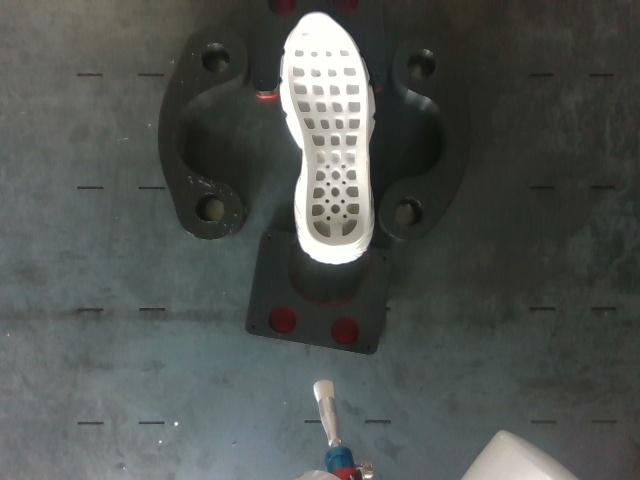shoes: (287, 14, 369, 245)
